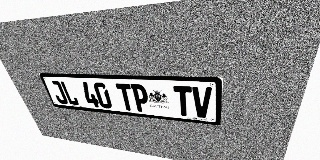0: (92, 82, 113, 109)
4: (80, 82, 100, 108)
J: (49, 80, 69, 105)
L: (59, 81, 80, 106)
P: (130, 84, 150, 113)
T: (173, 86, 192, 117), (115, 83, 136, 111)
V: (192, 86, 212, 119)
